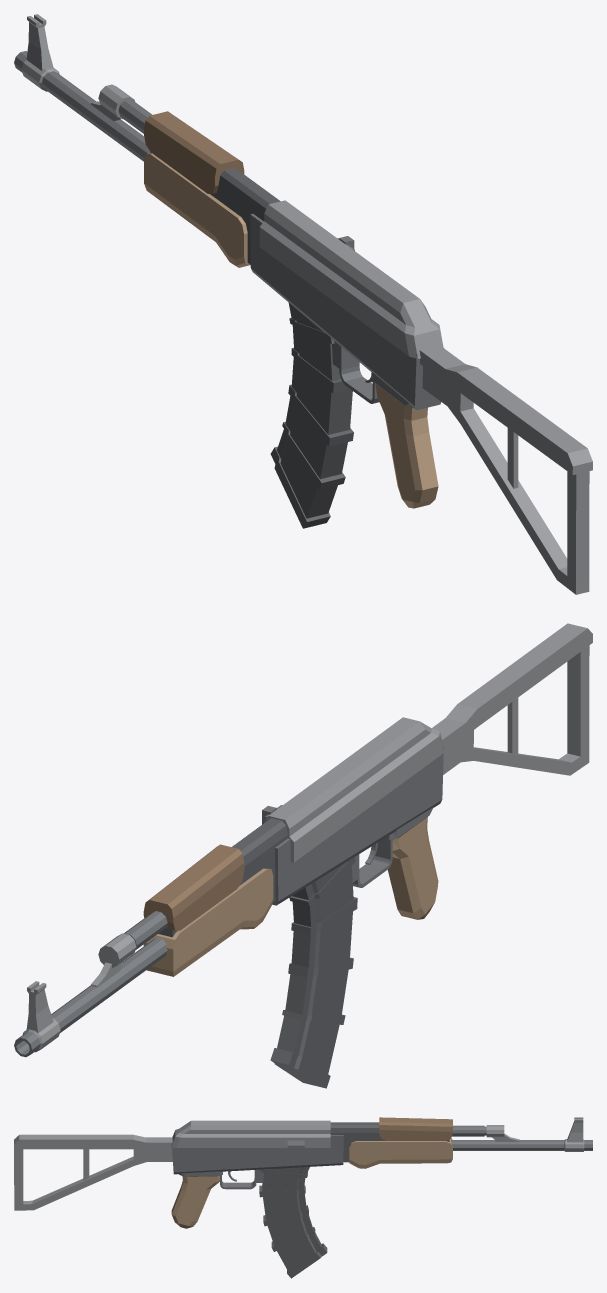
3 renders of one model, top to bottom at view 1: azimuth 30°, elevation 25°; view 2: azimuth 150°, elevation 25°; view 3: azimuth 270°, elevation 25°, orthographic. The views are drawn at different scales.
Visible parts, largest first — view 1: body, mag; view 2: body, mag; view 3: body, mag, charge.
Part boxes in pixels (x1=…): body: x1=14, y1=14, x2=592, y2=594; mag: x1=270, y1=303, x2=353, y2=528; body: x1=14, y1=623, x2=592, y2=1057; mag: x1=270, y1=857, x2=357, y2=1088; body: x1=14, y1=1117, x2=592, y2=1228; mag: x1=259, y1=1167, x2=327, y2=1278; charge: x1=287, y1=1140, x2=304, y2=1155.
Bounding box in the file's own units: 0.0636 × 0.3063 × 1.02.
